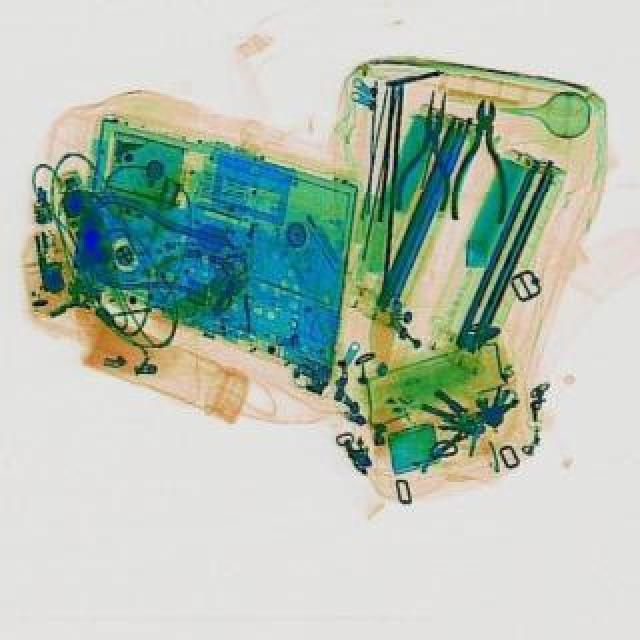wrench: (394, 86, 470, 218), (452, 100, 520, 228)
